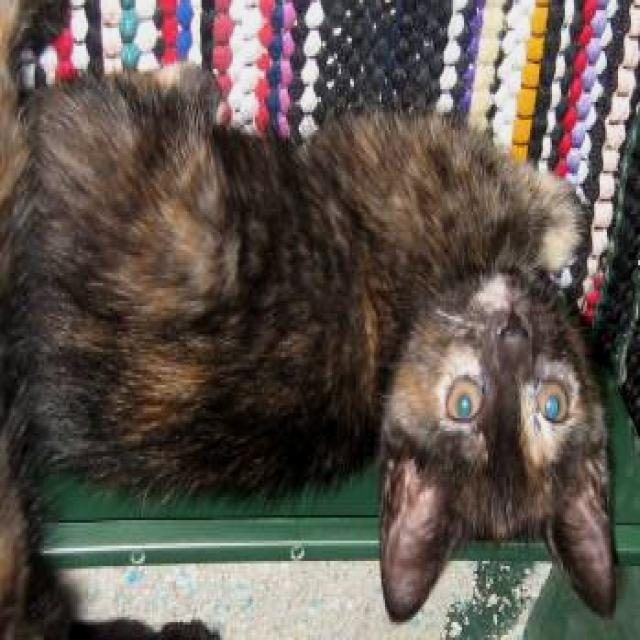Kucing: (6, 58, 640, 627)
